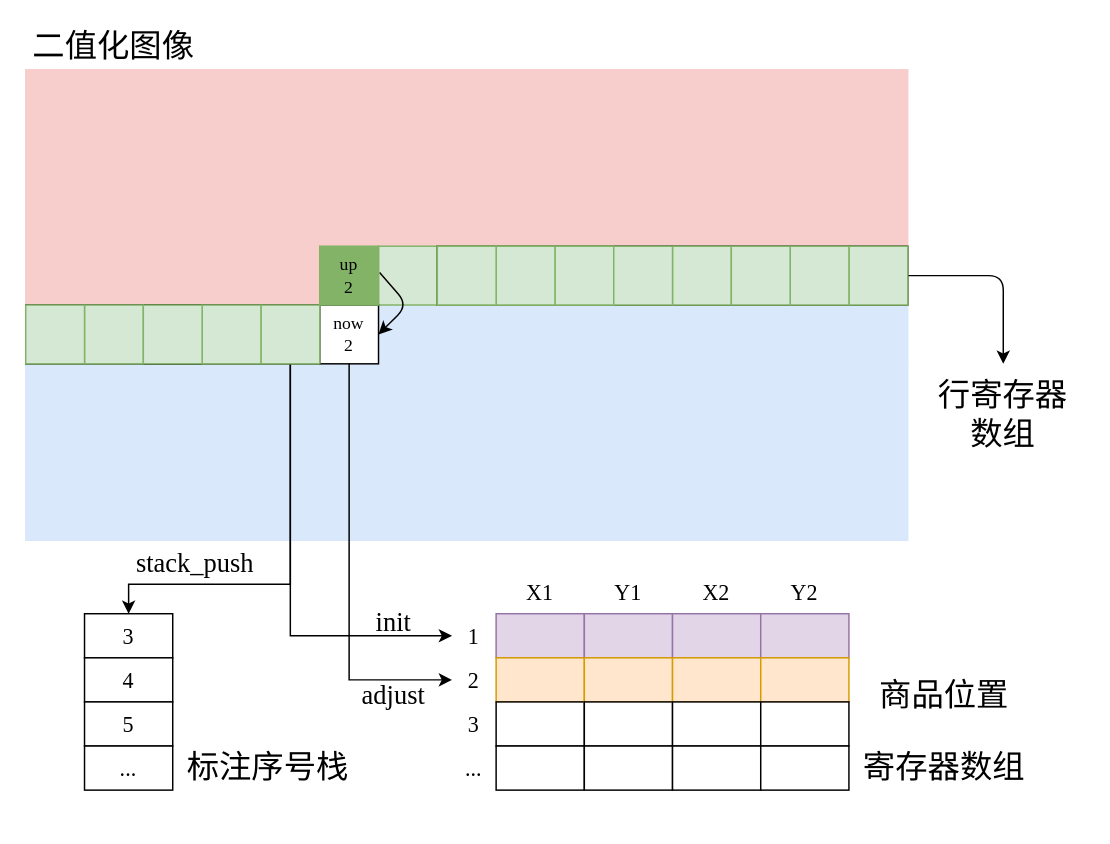
The diagram is 1110 pixels wide and 844 high, and some of its shapes have lost their labels. The shapes that lost their labels are listed below. From the top down, each one's centre as x and y in pixels, then its label:
At point (466, 157): "已遍历区域".
At point (289, 334): "left 1".
At point (466, 451): "未遍历区域".
